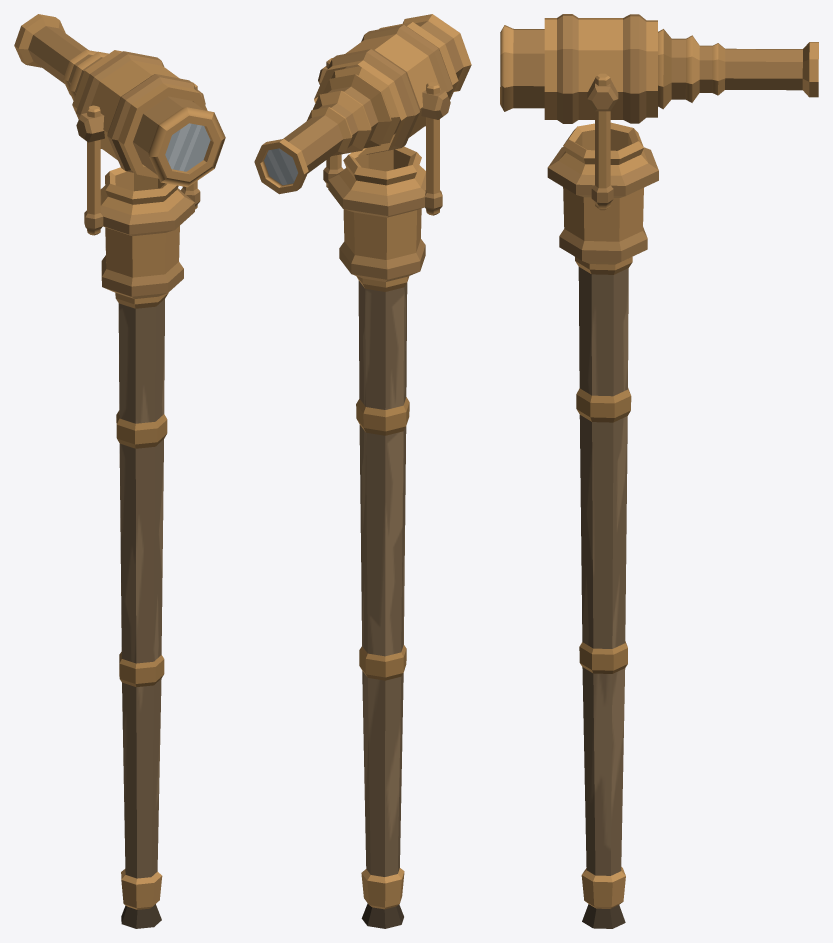
The model's file is SM_Prop_Spyglass_02.fbx.
The picture shows the model from 3 angles, left to right: view 1: azimuth 30°, elevation 25°; view 2: azimuth 150°, elevation 25°; view 3: azimuth 270°, elevation 25°; orthographic projection. The views are drawn at different scales.
Parts seen in each view (by area): view 1: SM_Prop_Spyglass_02, SM_Item_Spyglass_02_Spyglass_01; view 2: SM_Prop_Spyglass_02, SM_Item_Spyglass_02_Spyglass_01; view 3: SM_Prop_Spyglass_02, SM_Item_Spyglass_02_Spyglass_01.
Boxes of the visible parts, x1,y1,x2,y2 form: SM_Prop_Spyglass_02: (72, 50, 207, 928); SM_Item_Spyglass_02_Spyglass_01: (14, 14, 225, 187); SM_Prop_Spyglass_02: (314, 22, 458, 928); SM_Item_Spyglass_02_Spyglass_01: (254, 14, 471, 194); SM_Prop_Spyglass_02: (544, 14, 658, 928); SM_Item_Spyglass_02_Spyglass_01: (500, 25, 818, 111).
Size of the model in its own units: 23.74 by 163 by 52.17.
